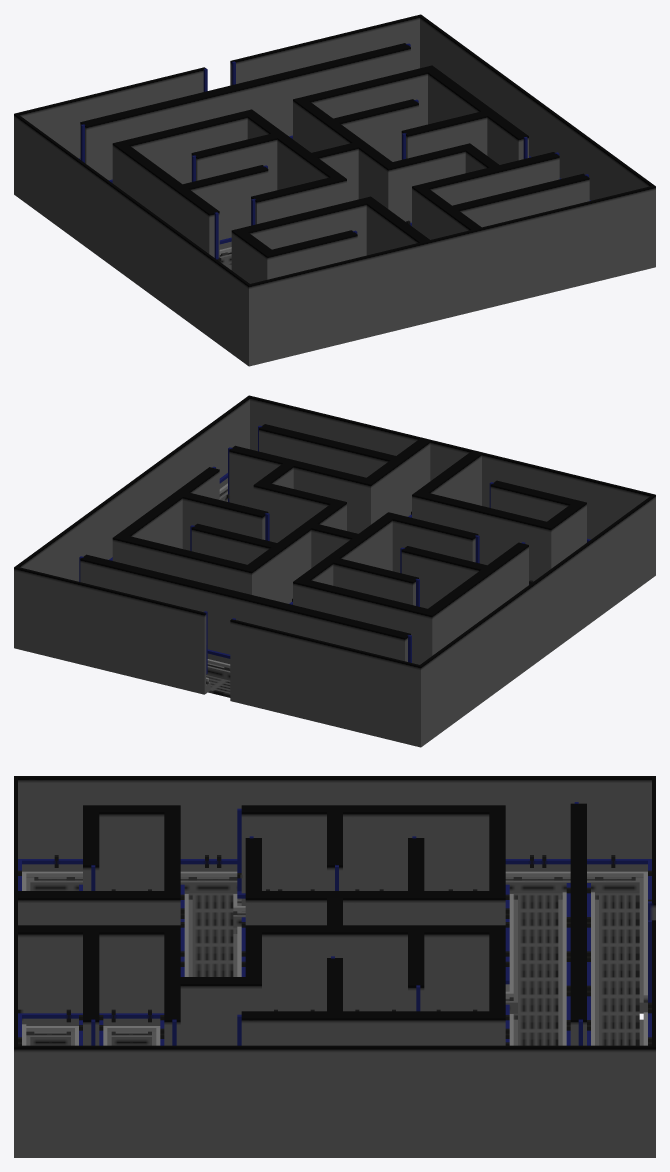
The model's file is Level01pt2.fbx.
The picture shows the model from 3 angles, top to bottom: view 1: azimuth 30°, elevation 25°; view 2: azimuth 150°, elevation 25°; view 3: azimuth 270°, elevation 25°; orthographic projection. The views are drawn at different scales.
Visible parts, largest first — view 1: Union_191; view 2: Union_191; view 3: Union_191.
Part boxes in pixels (x1,y1,x2,y2): Union_191: [14, 14, 655, 366]; Union_191: [14, 395, 655, 747]; Union_191: [14, 776, 655, 1157].
Bounding box in the file's own units: 158 × 31 × 158.
